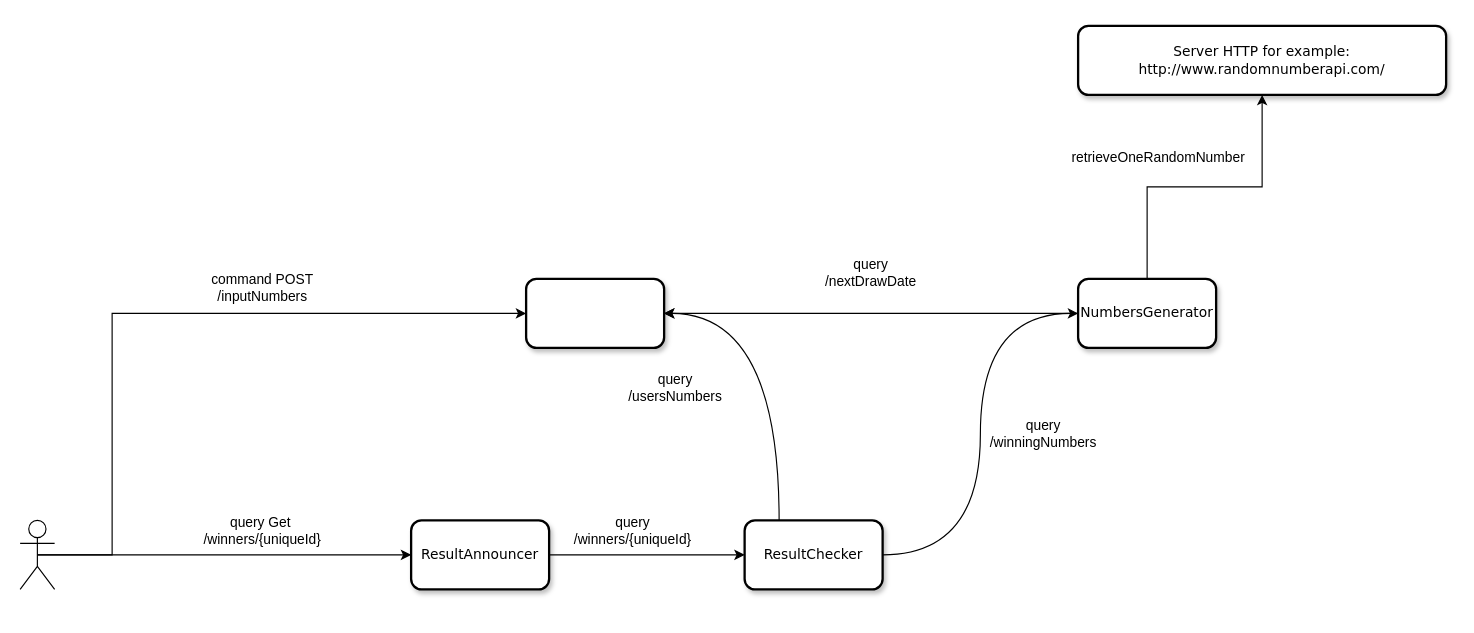
This 1474x633 diagram has some shape labels left out. The centre of each missing label's shape, as x and y in pixels:
"Actor" goes at [37,554].
"NumberReceiver" goes at [596,314].
